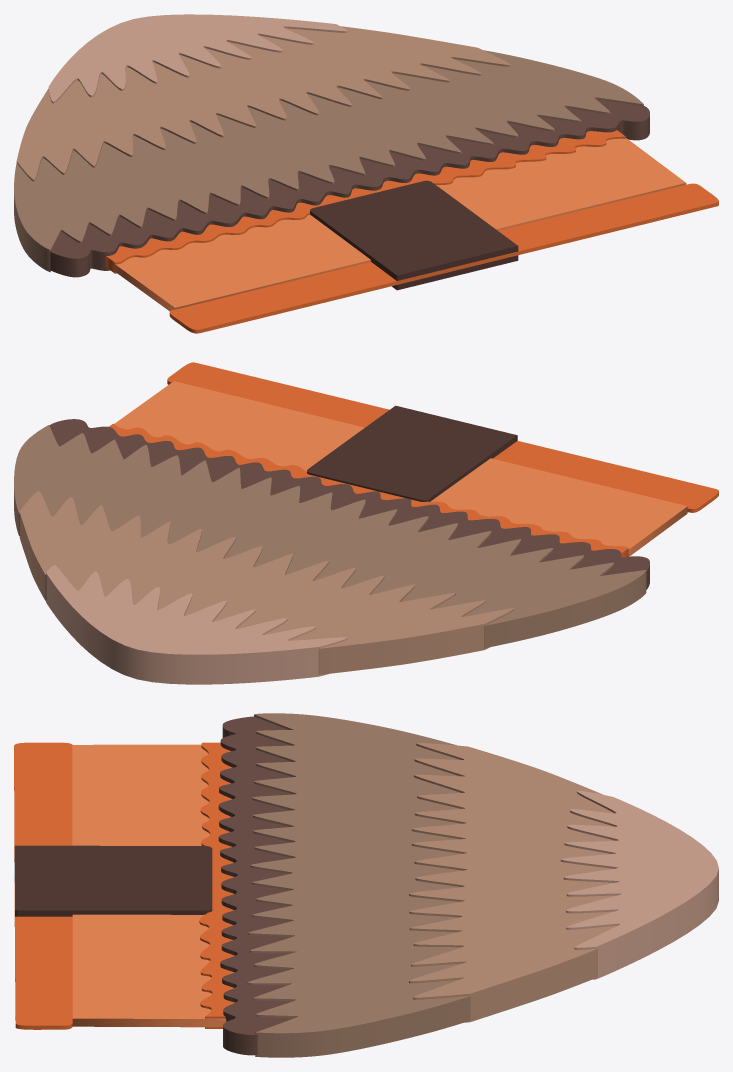
The model's file is emoji_u1f6d6.glb.
3 views of the same model, one above another, from view 1: azimuth 30°, elevation 25°; view 2: azimuth 150°, elevation 25°; view 3: azimuth 270°, elevation 25° (orthographic). The views are drawn at different scales.
Visible parts, largest first — view 1: emoji_u1f6d6; view 2: emoji_u1f6d6; view 3: emoji_u1f6d6.
Part boxes in pixels (x1=…): emoji_u1f6d6: x1=14, y1=14, x2=718, y2=333; emoji_u1f6d6: x1=14, y1=362, x2=718, y2=684; emoji_u1f6d6: x1=14, y1=713, x2=718, y2=1057.
Bounding box in the file's own units: 0.0337 × 0.0016 × 0.0313.
